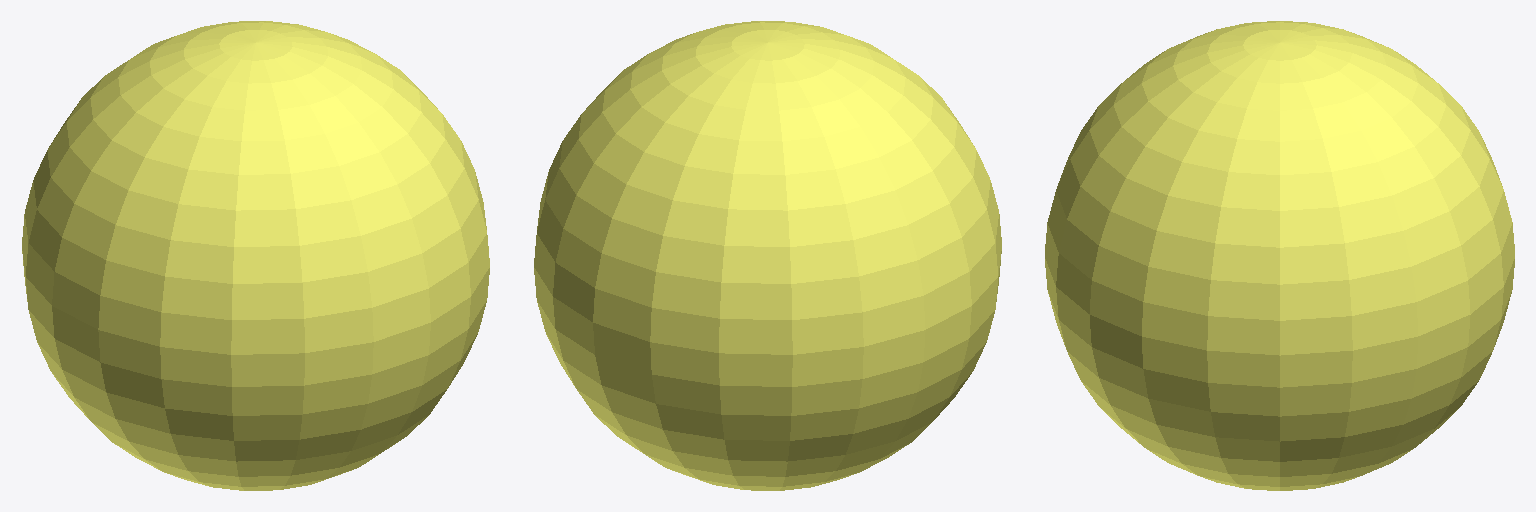
Rendered from pellet.obj.
3 views of the same model, side by side, from view 1: azimuth 30°, elevation 25°; view 2: azimuth 150°, elevation 25°; view 3: azimuth 270°, elevation 25° (orthographic).
Parts seen in each view (by area): view 1: pSphere1; view 2: pSphere1; view 3: pSphere1.
Part boxes in pixels (x1,y1,x2,y2): pSphere1: (22, 21, 489, 490); pSphere1: (534, 21, 1001, 490); pSphere1: (1045, 21, 1514, 490).
Bounding box in the file's own units: 12 × 12 × 12.